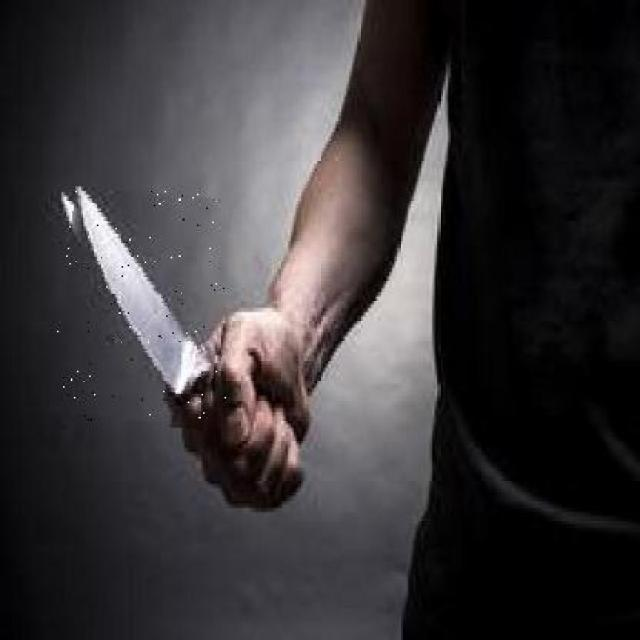knife: (55, 190, 226, 428)
